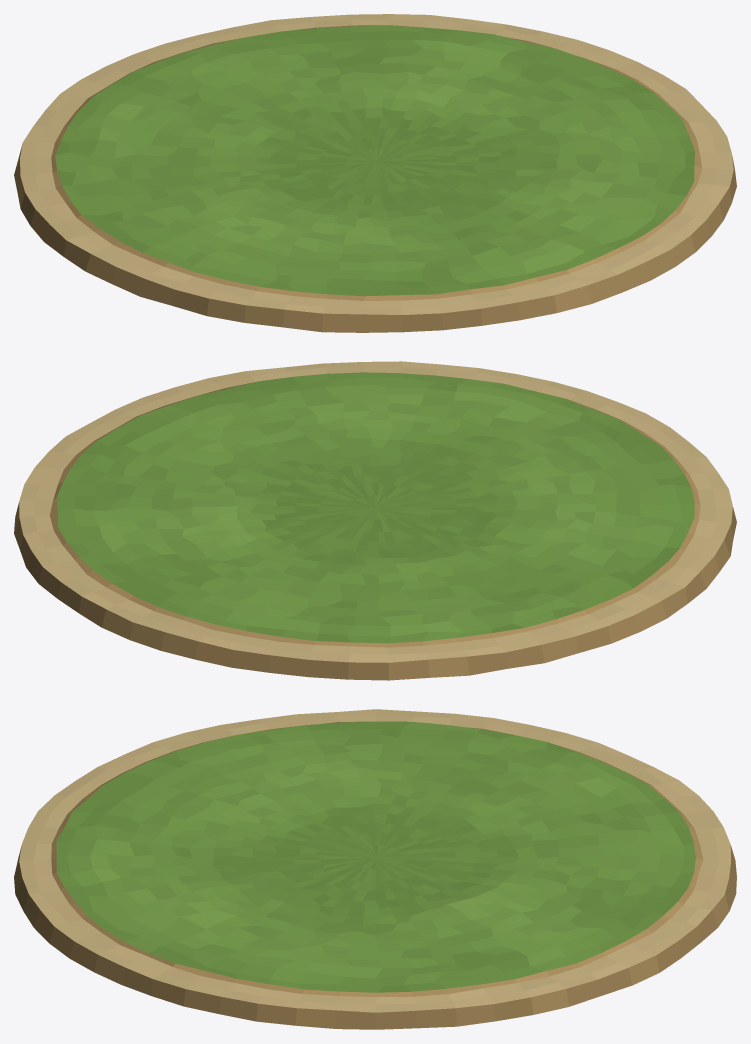
Rendered from island.glb.
3 views of the same model, one above another, from view 1: azimuth 30°, elevation 25°; view 2: azimuth 150°, elevation 25°; view 3: azimuth 270°, elevation 25° (orthographic).
Parts seen in each view (by area): view 1: island; view 2: island; view 3: island.
Boxes of the visible parts, bbox=[...] form: island: bbox=[14, 14, 736, 332]; island: bbox=[14, 361, 736, 680]; island: bbox=[14, 709, 736, 1029].
Bounding box in the file's own units: 99.17 × 3.6 × 99.26.
